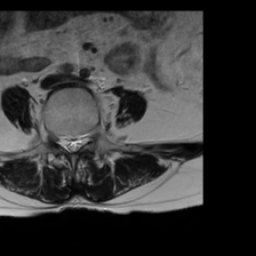CCS_severe_stenosis: (69, 122, 77, 160)
LFS_normal: (85, 121, 93, 151)
LLS_normal: (77, 124, 85, 158)
RFS_normal: (53, 124, 61, 153)
RLS_normal: (61, 125, 69, 157)
